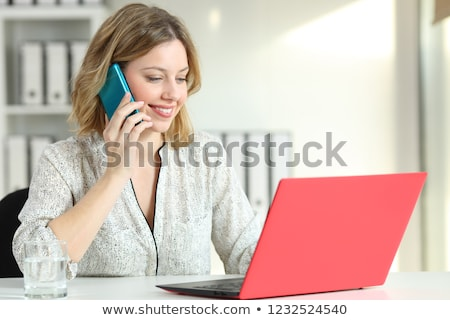phone: (92, 67, 146, 138)
talk: (91, 65, 191, 165)
